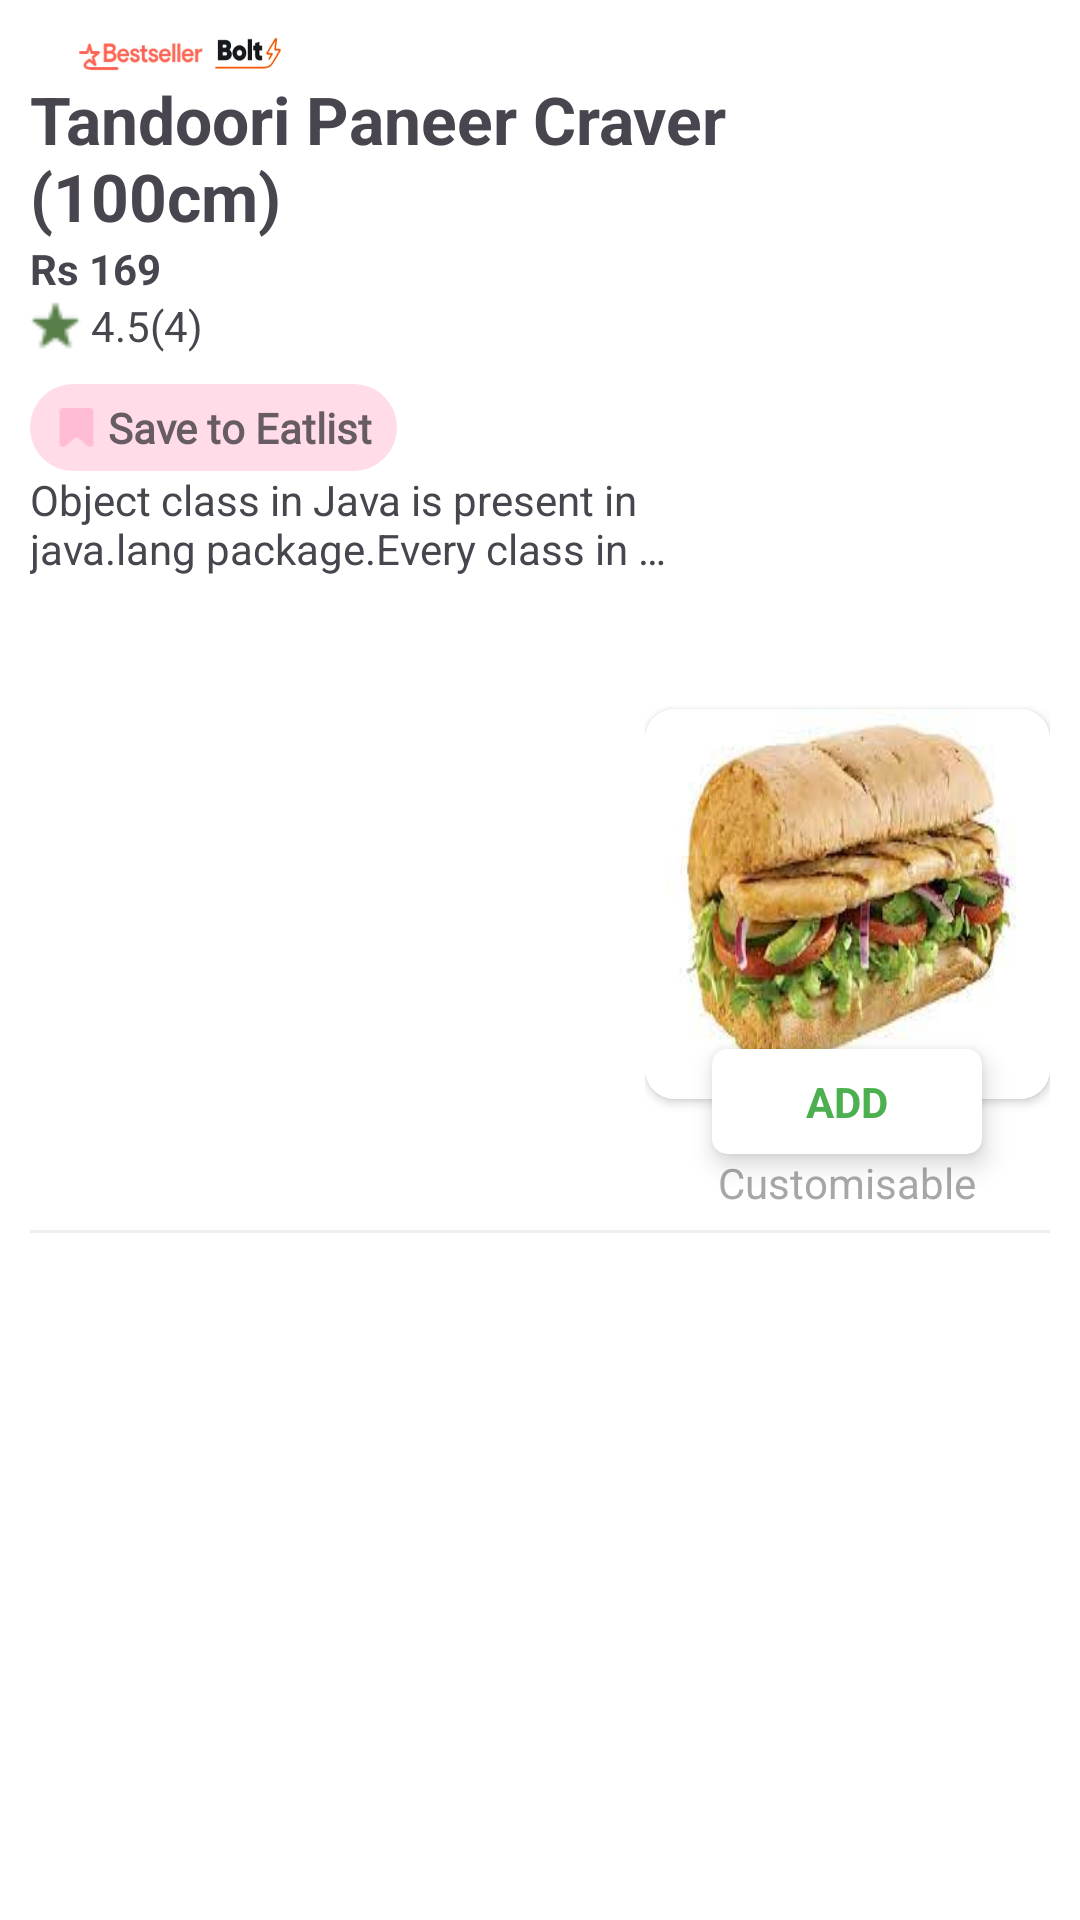

Screen size 1080x1920. Icon name, then its center in pixels as point (x, y):
save list: point (76, 427)
star: point (55, 325)
